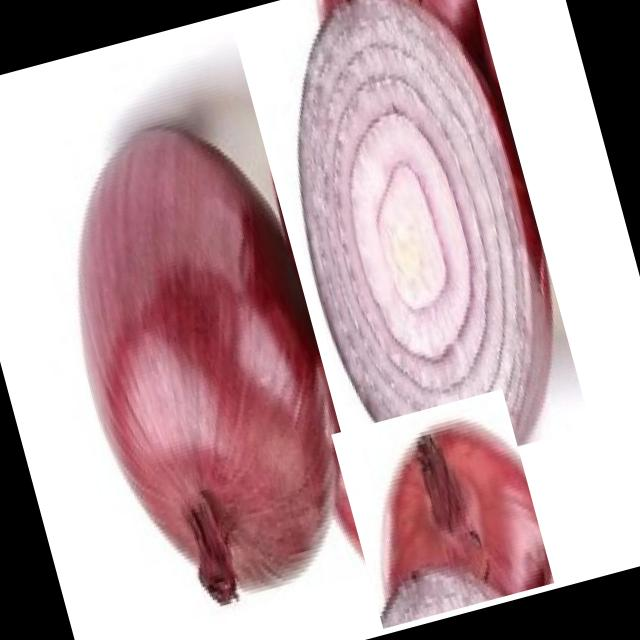Onion: (6, 61, 380, 640), (227, 0, 590, 489), (330, 388, 554, 630)
